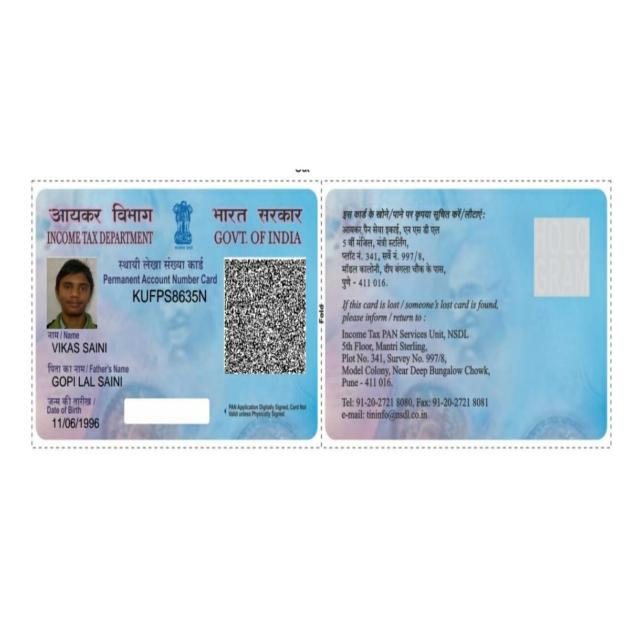pan_card: (34, 190, 318, 440), (326, 189, 606, 438)
